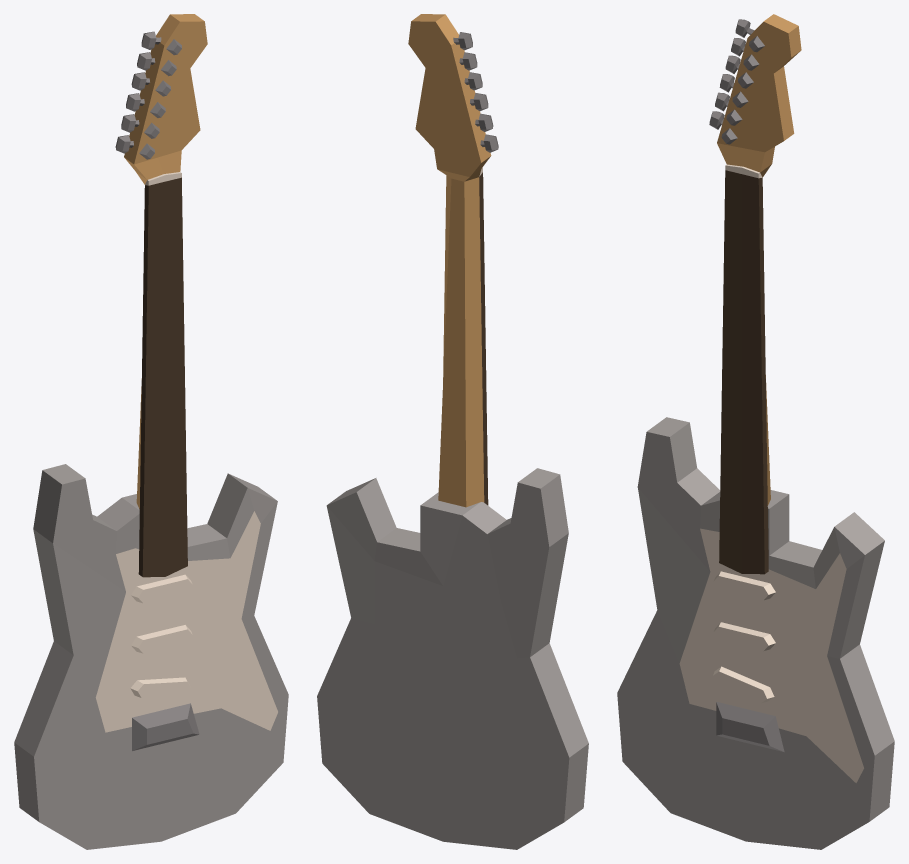
Rendered from music-guitar-electric-country.glb.
3 views of the same model, side by side, from view 1: azimuth 30°, elevation 25°; view 2: azimuth 150°, elevation 25°; view 3: azimuth 330°, elevation 25° (orthographic). The views are drawn at different scales.
Parts seen in each view (by area): view 1: guitar-electric-country; view 2: guitar-electric-country; view 3: guitar-electric-country.
Part boxes in pixels (x1,y1,x2,y2): guitar-electric-country: [14, 14, 288, 849]; guitar-electric-country: [317, 14, 588, 849]; guitar-electric-country: [617, 14, 894, 849].
Size of the model in its own units: 0.3288 by 1.01 by 0.0556.
